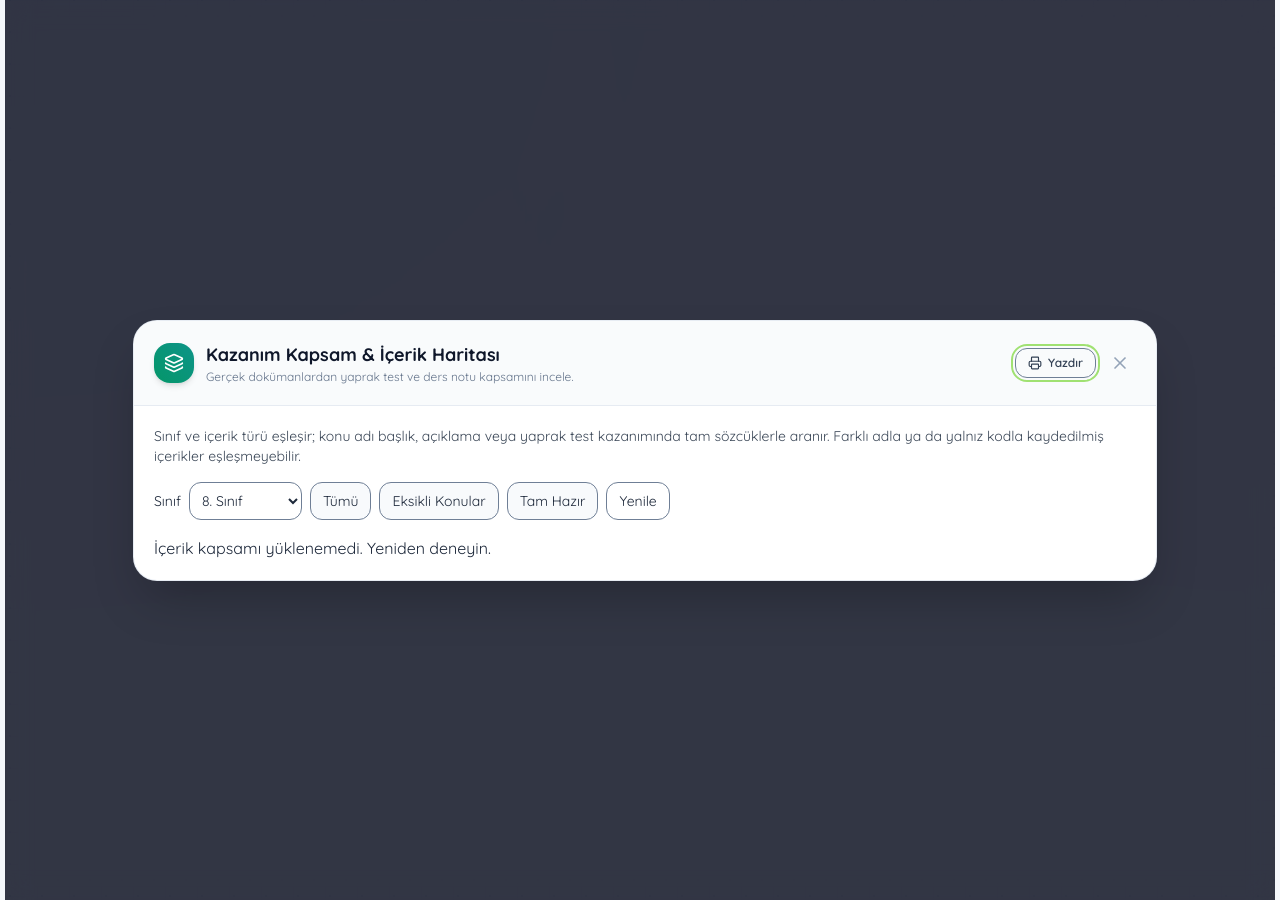
it: CurriculumCoverageMatrixModal › does not report missing documents when the query fails, and can refresh
Expected: the message shows "yüklenemedi", [154,538,491,558]
Click the button "Yenile".
click(638, 500)  # box [606,482,670,520]
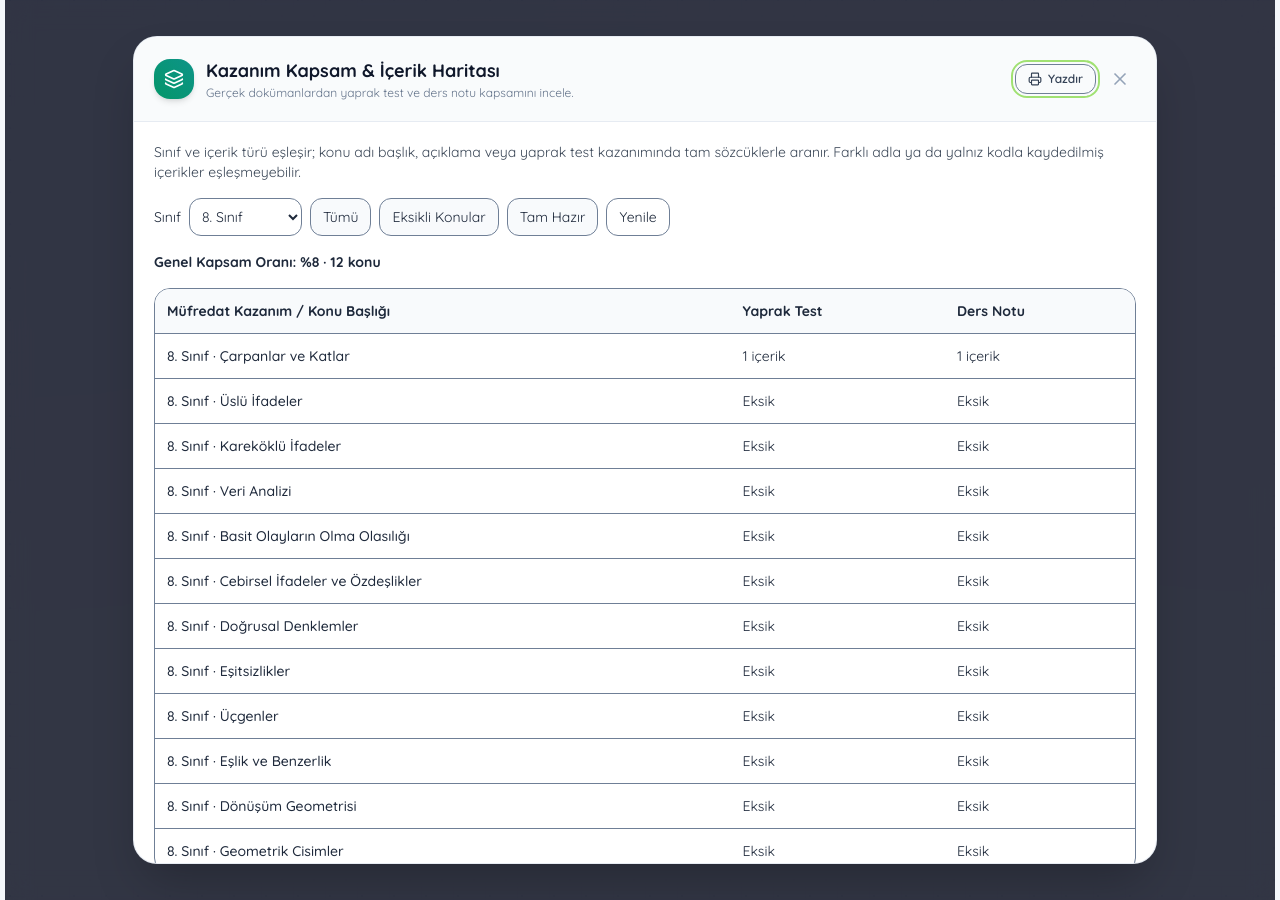
Expected: the text "Genel Kapsam Oranı: %8 · 12 konu" is shown, [154,253,381,271]
